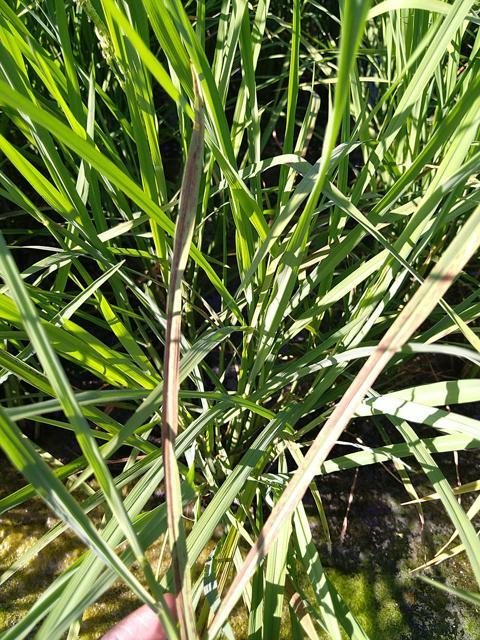Leaf Streak: (162, 113, 205, 639), (322, 274, 452, 433), (208, 524, 267, 639), (285, 576, 319, 639)
